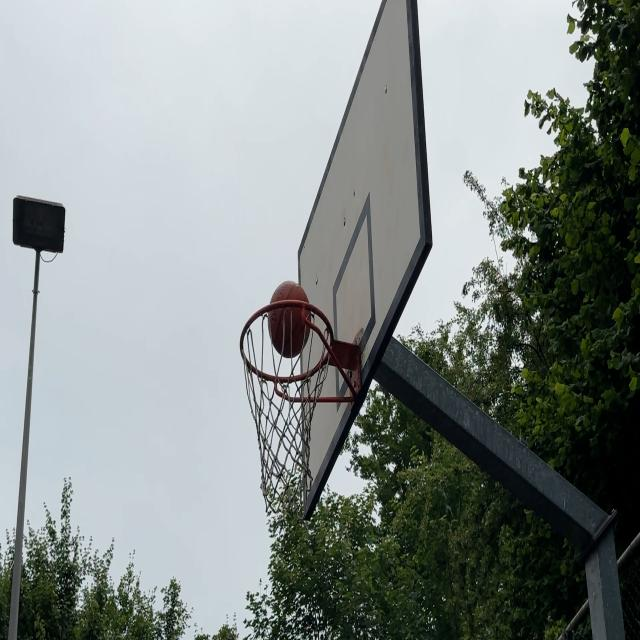Basketball: (268, 280, 310, 359)
